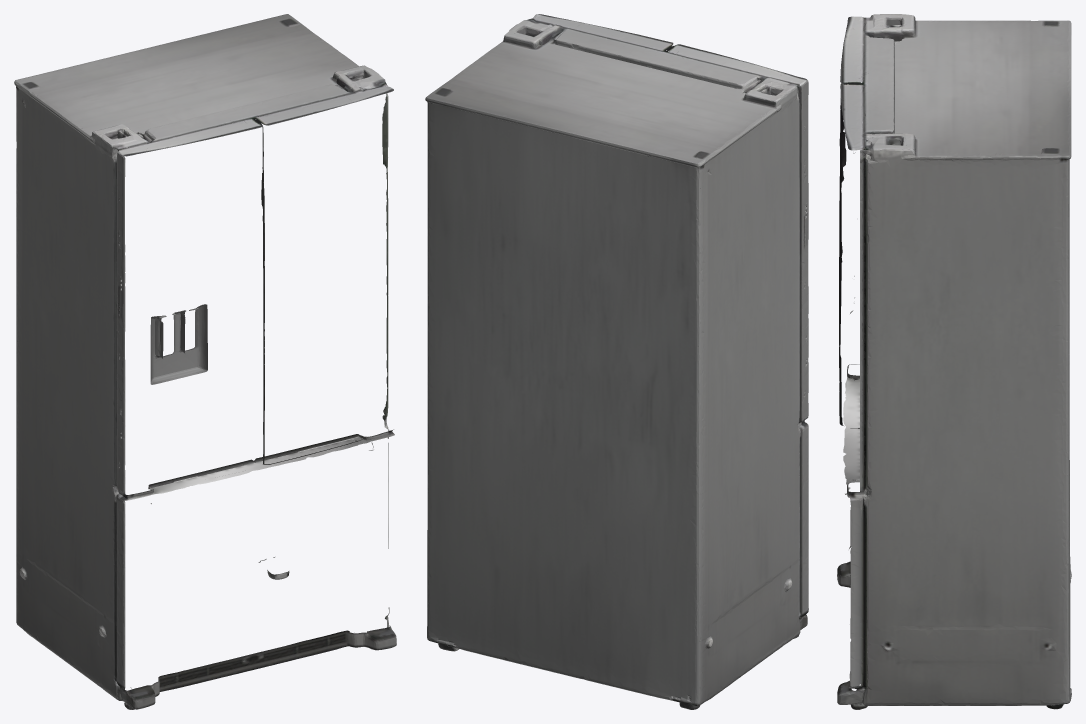
Rendered from body.glb.
3 renders of one model, left to right at view 1: azimuth 30°, elevation 25°; view 2: azimuth 150°, elevation 25°; view 3: azimuth 270°, elevation 25°, orthographic.
Visible parts, largest first — view 1: source_surface_0; view 2: source_surface_0; view 3: source_surface_0.
Boxes of the visible parts, left/top/right/bottom form: source_surface_0: left=14, top=14, right=396, bottom=709; source_surface_0: left=425, top=14, right=808, bottom=709; source_surface_0: left=837, top=14, right=1071, bottom=709.
Bounding box in the file's own units: 1.75 × 3.38 × 1.27.
Materials: 1 (1 with a texture image).
